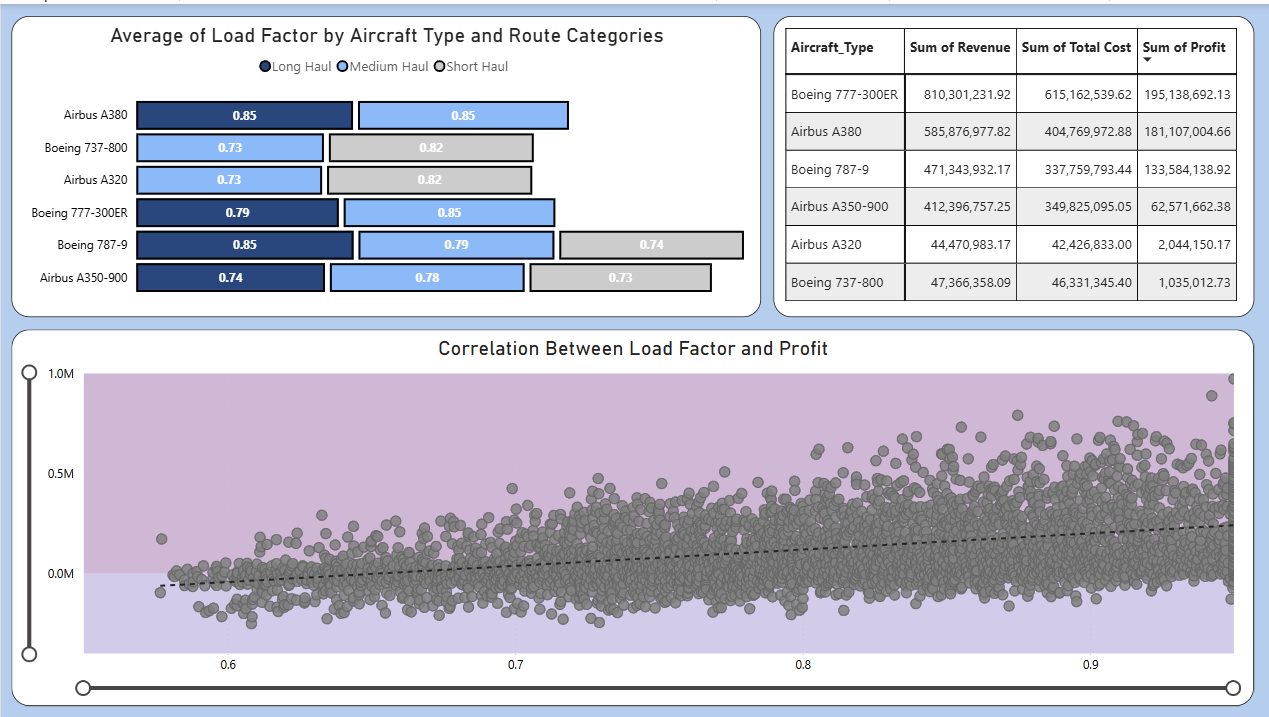

Layout of this report page (visuals, bound fields, positions):
{"tool":"powerbi","page":{"name":"Aircraft Performance","canvas":[1280,720],"ordinal":1},"visuals":[{"type":"barChart","title":"Average of Load Factor by Aircraft Type and Route Categories","fields":{"Category":["Project 1.Aircraft_Type"],"Y":["Avg(Project 1.Load_Factor)"],"Series":["AvgByRouteCategory.Route_Category"]},"box":[10.8,12.2,757,304.1],"z":0},{"type":"scatterChart","title":"Correlation Between Load Factor and Profit","fields":{"X":["Sum(Project 1.Load_Factor)"],"Y":["Sum(Project 1.Profit)"]},"box":[10.6,328.6,1254,380],"z":1000},{"type":"pivotTable","fields":{"Rows":["Project 1.Aircraft_Type"],"Values":["Sum(Project 1.Total_Revenue)","Sum(Project 1.Total_Cost)","Sum(Project 1.Profit)"]},"box":[779.9,12.2,485.3,304.1],"z":3000}]}

Visuals, with their boxes in screenshot pixels (x1, y1, x2, y2), scaled from the page's 1280x720 canvas onto the 1269x717 screenshot:
"Average of Load Factor by Aircraft Type and Route Categories" barChart: [11, 12, 761, 315]
"Correlation Between Load Factor and Profit" scatterChart: [11, 327, 1254, 706]
pivotTable - Project 1.Aircraft_Type x Sum(Project 1.Total_Revenue): [773, 12, 1254, 315]
